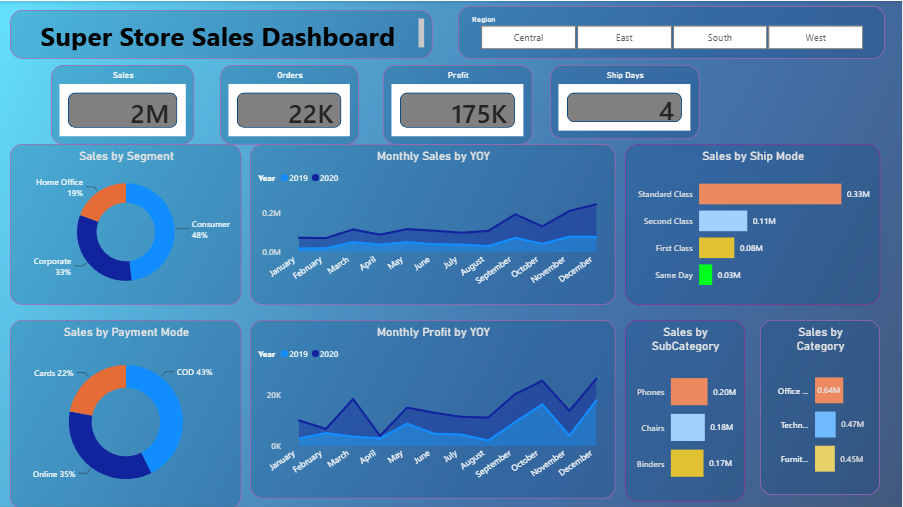

What the dashboard file says about the page in this screenshot:
{"tool":"powerbi","page":{"name":"Page 1","canvas":[1280,720],"ordinal":0},"visuals":[{"type":"clusteredBarChart","title":"Sales by Category","fields":{"Category":["SuperStore_Sales_Dataset.Category"],"Y":["Sum(SuperStore_Sales_Dataset.Sales)"]},"box":[1080,451.7,170,248.3],"z":0},{"type":"clusteredBarChart","title":"Sales by SubCategory","fields":{"Category":["SuperStore_Sales_Dataset.Sub-Category"],"Y":["Sum(SuperStore_Sales_Dataset.Sales)"]},"box":[888.3,451.7,170,256.7],"z":1000},{"type":"clusteredBarChart","title":"Sales by Ship Mode","fields":{"Category":["SuperStore_Sales_Dataset.Ship Mode"],"Y":["Sum(SuperStore_Sales_Dataset.Sales)"]},"box":[888.3,203.3,361.7,228.3],"z":2000},{"type":"stackedAreaChart","title":"Monthly Sales by YOY","fields":{"Y":["Sum(SuperStore_Sales_Dataset.Sales)"],"Category":["SuperStore_Sales_Dataset.Order Date.Variation.Date Hierarchy.Month","SuperStore_Sales_Dataset.Order Date.Variation.Date Hierarchy.Day"],"Series":["SuperStore_Sales_Dataset.Order Date.Variation.Date Hierarchy.Year"]},"box":[356.7,203.3,518.3,228.3],"z":3000},{"type":"stackedAreaChart","title":"Monthly Profit by YOY","fields":{"Category":["SuperStore_Sales_Dataset.Order Date.Variation.Date Hierarchy.Month","SuperStore_Sales_Dataset.Order Date.Variation.Date Hierarchy.Day"],"Series":["SuperStore_Sales_Dataset.Order Date.Variation.Date Hierarchy.Year"],"Y":["Sum(SuperStore_Sales_Dataset.Profit)"]},"box":[356.7,451.7,518.3,253.3],"z":4000},{"type":"donutChart","title":"Sales by Segment","fields":{"Category":["SuperStore_Sales_Dataset.Segment"],"Y":["Sum(SuperStore_Sales_Dataset.Sales)"]},"box":[16.7,203.3,328.3,228.3],"z":5000},{"type":"donutChart","title":" Sales by Payment Mode","fields":{"Y":["Sum(SuperStore_Sales_Dataset.Sales)"],"Category":["SuperStore_Sales_Dataset.Payment Mode"]},"box":[16.7,451.7,328.3,268.3],"z":6000},{"type":"textbox","box":[17.1,12.9,598.6,68.6],"z":7000},{"type":"cardVisual","title":"Sales","fields":{"Data":["Sum(SuperStore_Sales_Dataset.Sales)"]},"box":[75,90,203.3,113.3],"z":8000},{"type":"cardVisual","title":"Orders","fields":{"Data":["Sum(SuperStore_Sales_Dataset.Quantity)"]},"box":[315,90,196.7,113.3],"z":9000},{"type":"cardVisual","title":"Profit","fields":{"Data":["Sum(SuperStore_Sales_Dataset.Profit)"]},"box":[545,90,211.7,113.3],"z":10000},{"type":"cardVisual","title":"Ship Days","fields":{"Data":["Avg(SuperStore_Sales_Dataset.AvgDelivery)"]},"box":[781.7,90,211.7,105],"z":11000},{"type":"slicer","fields":{"Values":["SuperStore_Sales_Dataset.Region"]},"box":[651.7,6.7,605,75],"z":12000}]}

Visuals, with their boxes in screenshot pixels (x1, y1, x2, y2), scaled from the page's 1280x720 canvas onto the 903x507 screenshot:
"Sales by Category" clusteredBarChart: <bbox>762, 318, 882, 493</bbox>
"Sales by SubCategory" clusteredBarChart: <bbox>627, 318, 747, 499</bbox>
"Sales by Ship Mode" clusteredBarChart: <bbox>627, 143, 882, 304</bbox>
"Monthly Sales by YOY" stackedAreaChart: <bbox>252, 143, 617, 304</bbox>
"Monthly Profit by YOY" stackedAreaChart: <bbox>252, 318, 617, 496</bbox>
"Sales by Segment" donutChart: <bbox>12, 143, 243, 304</bbox>
" Sales by Payment Mode" donutChart: <bbox>12, 318, 243, 506</bbox>
textbox: <bbox>12, 9, 434, 57</bbox>
"Sales" cardVisual: <bbox>53, 63, 196, 143</bbox>
"Orders" cardVisual: <bbox>222, 63, 361, 143</bbox>
"Profit" cardVisual: <bbox>384, 63, 534, 143</bbox>
"Ship Days" cardVisual: <bbox>551, 63, 701, 137</bbox>
slicer - SuperStore_Sales_Dataset.Region: <bbox>460, 5, 887, 58</bbox>
